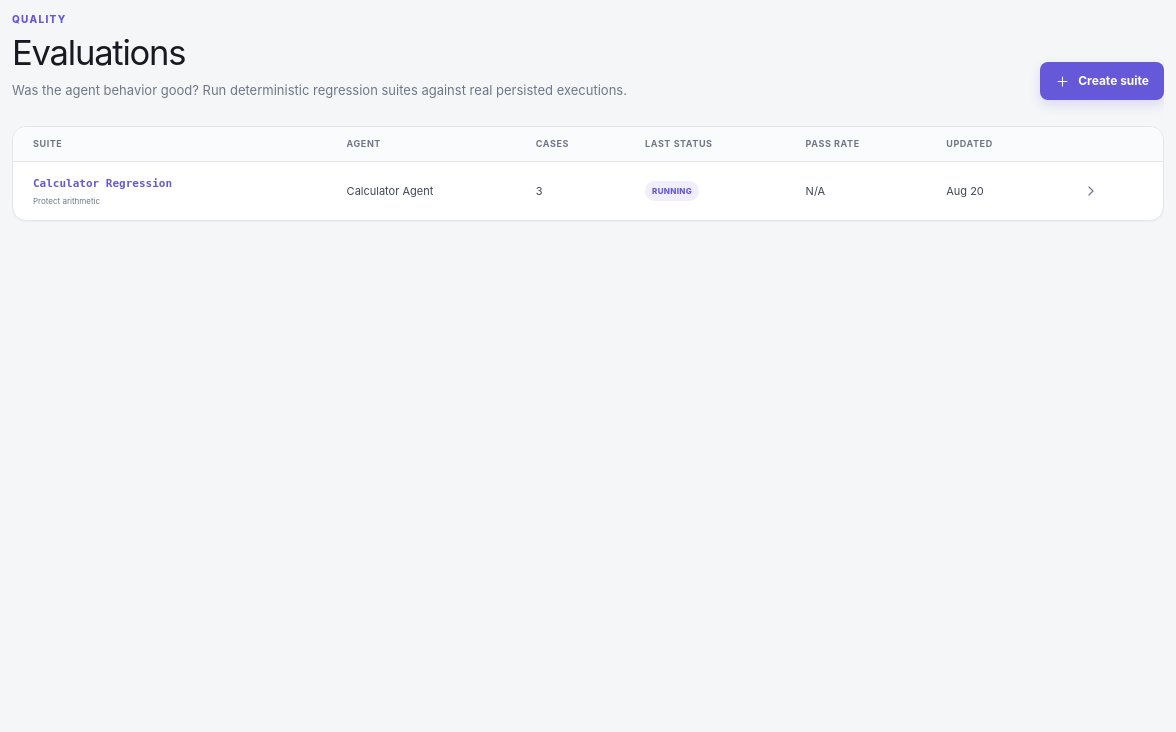
Test: evaluation helpers and surfaces › recovers from a transient poll failure until terminal results arrive
Click the button "RUNNING" at [672, 191], box [645, 181, 699, 201]
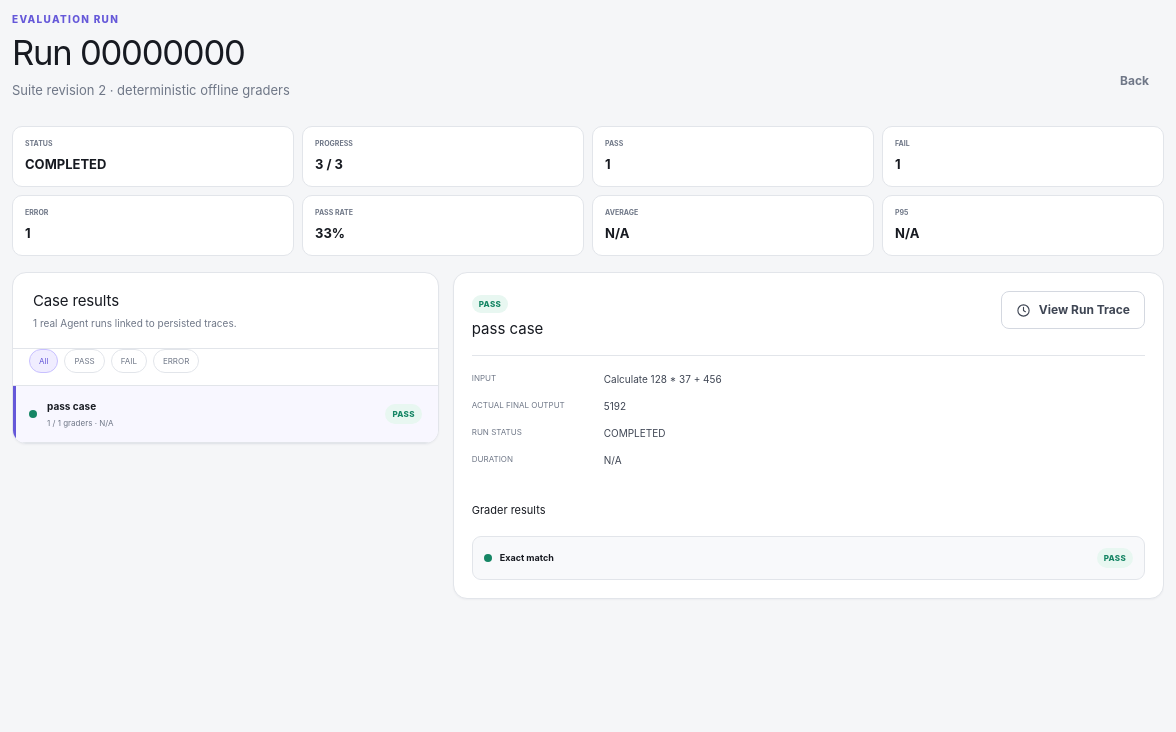
Expected: the element named "Evaluation summary" shows "COMPLETED", [25, 156, 106, 172]
Expected: the element named "Evaluation summary" shows "3 / 3", [315, 156, 343, 172]
Expected: the text "pass case" is shown 2 times, [47, 400, 96, 412]; [472, 318, 543, 341]
